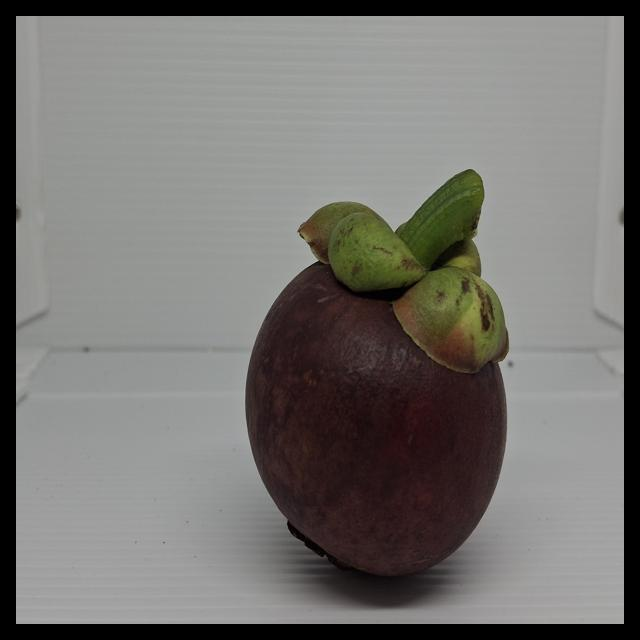mangosteen: (227, 120, 555, 610)
